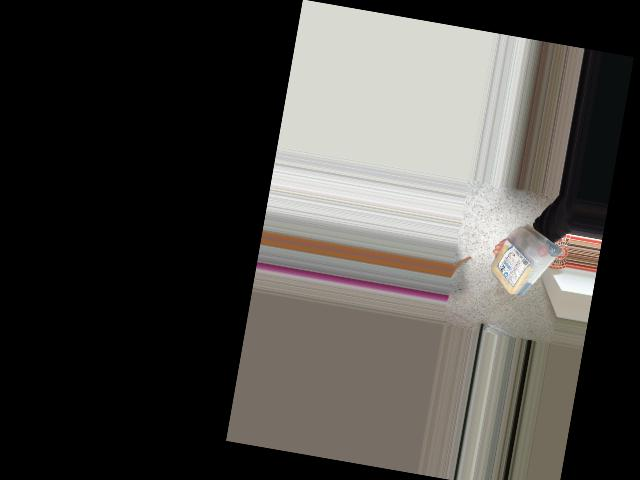cheese: (480, 215, 569, 307)
